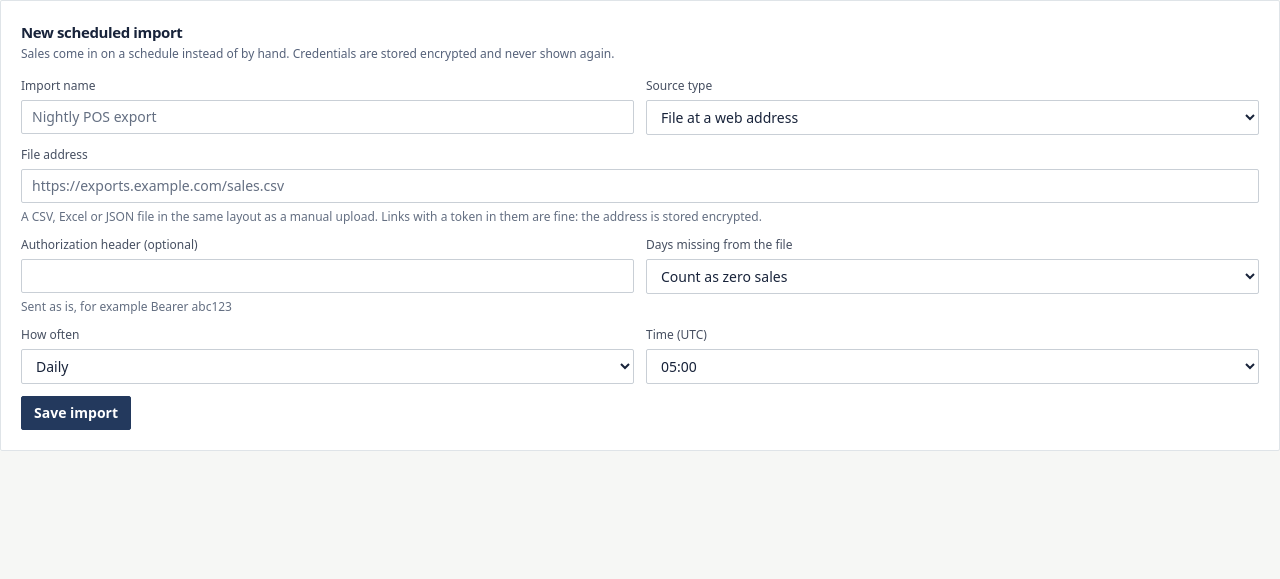
Scenario: new import form › switches to WooCommerce fields and does not send an invalid form
The image size is (1280, 579).
Select "WooCommerce store" in the dropdown labelled "Source type" at (952, 117), box top-left (646, 100), bottom-right (1259, 134)
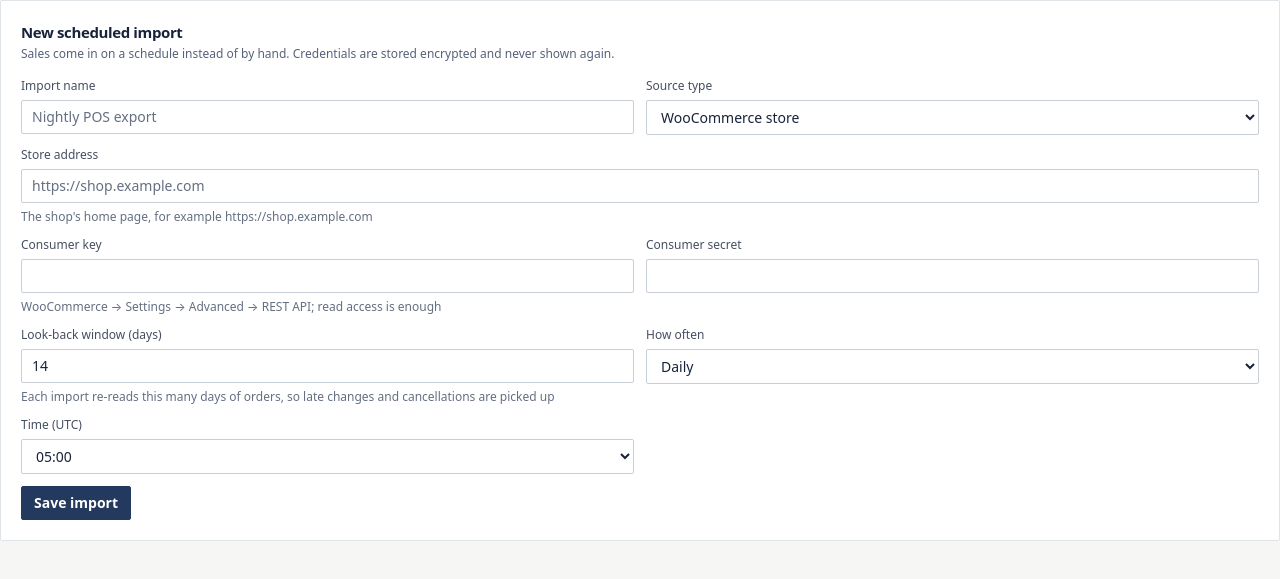
Expected: the field labelled "Consumer key" is shown, top-left (21, 258), bottom-right (634, 292)
Now the label labelled "Authorization header (optional)" is gone
Click the button "Save import" at (76, 502), box top-left (21, 486), bottom-right (131, 520)
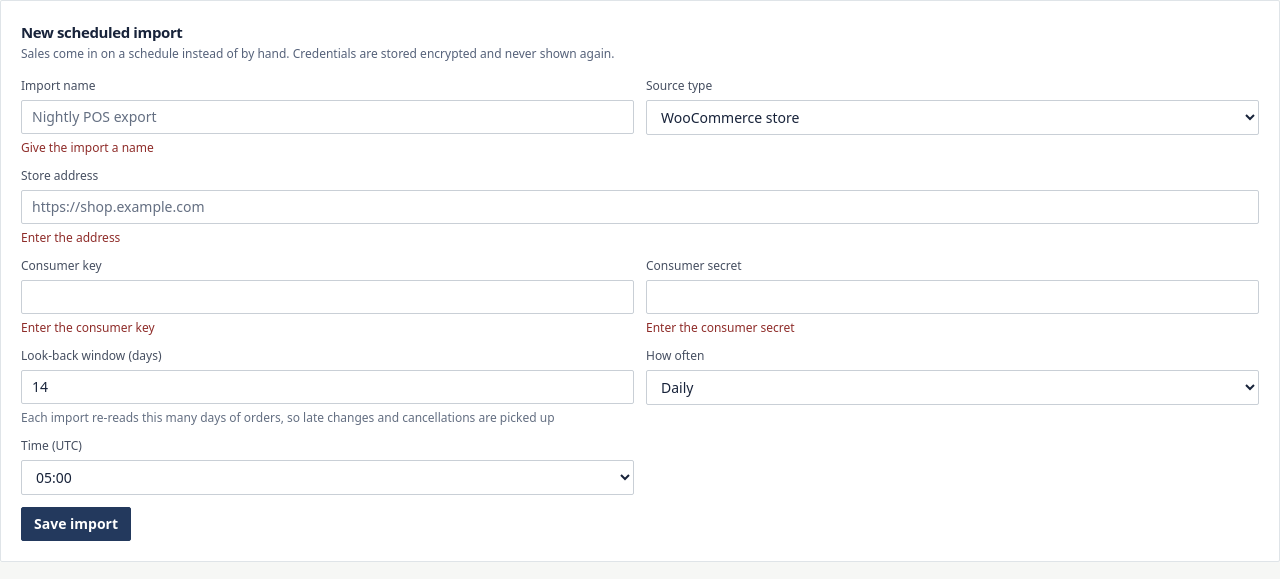
Now the text "Enter the consumer key" is shown, box top-left (21, 318), bottom-right (155, 336)
